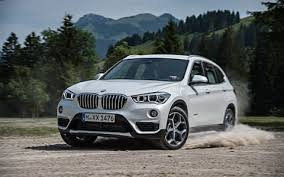car: (55, 52, 240, 152)
